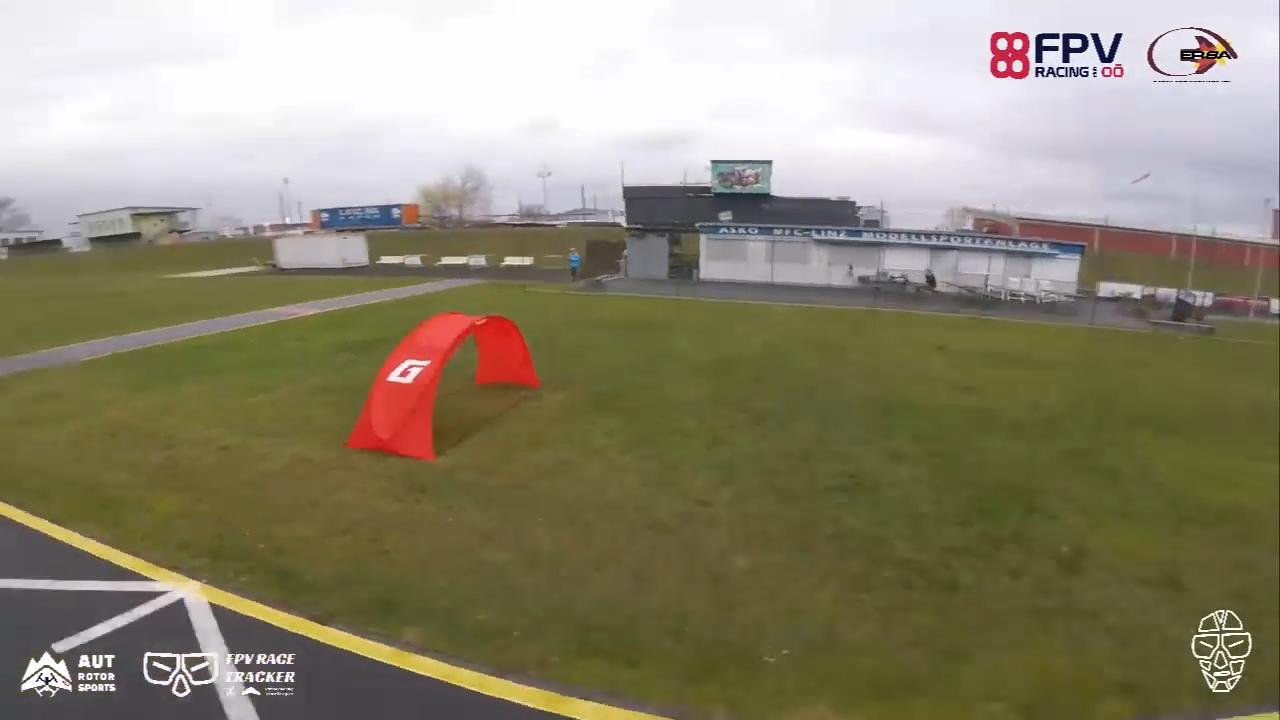gate: (344, 310, 545, 464)
